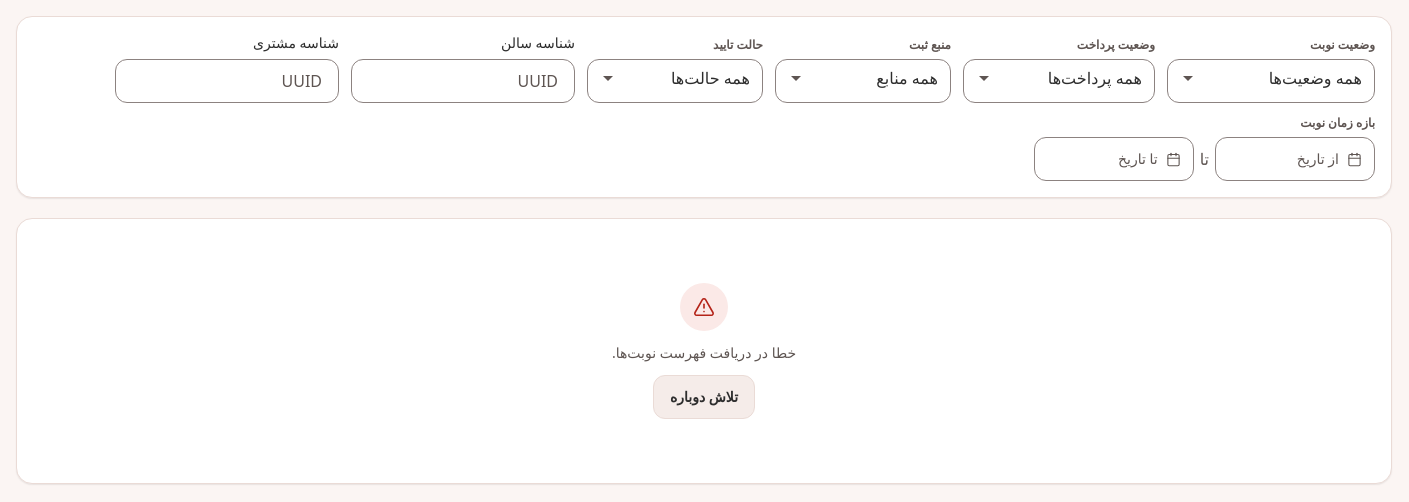
Test: BookingsView › shows a distinct error state (not the empty state) when the fetch fails, and retry reloads
Expected: the message "خطا در دریافت فهرست نوبت‌ها. تلاش دوباره" is shown, [16,218,1392,484]
Click the button with test id "retry-load" at (704, 397), box [653,375,755,419]
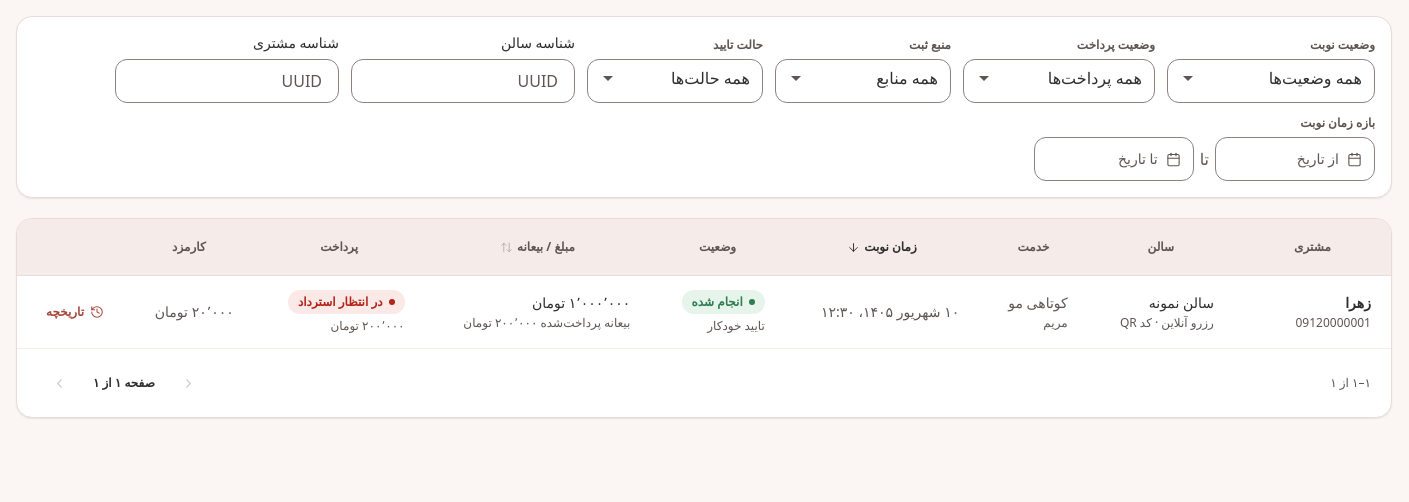
Expected: the text "زهرا" is shown, [1345,293,1371,312]
